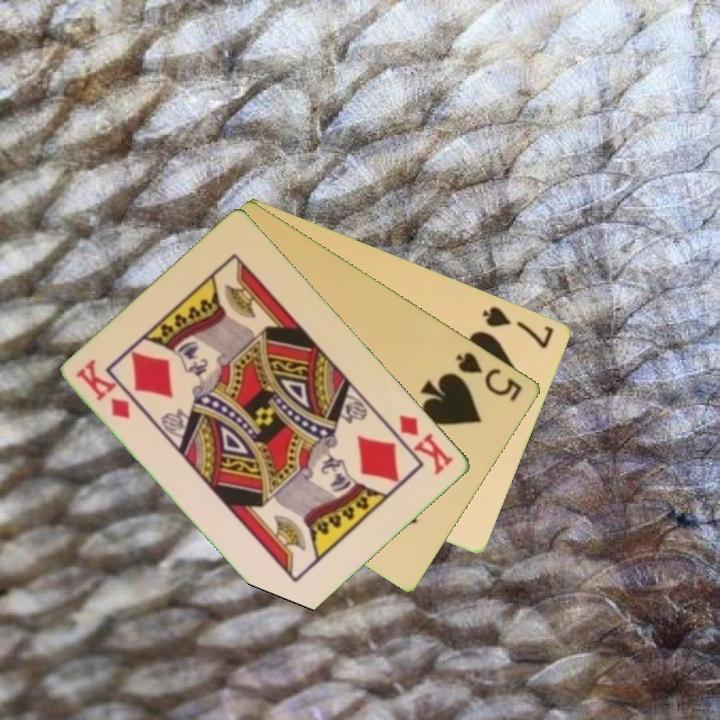5s: (452, 348, 526, 405)
7s: (479, 302, 557, 352)
Kd: (396, 410, 458, 478), (73, 356, 134, 422)
